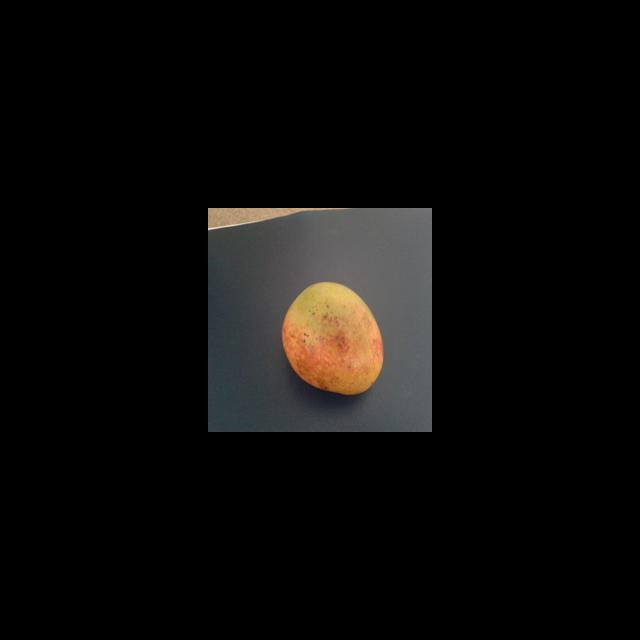Mango: (281, 280, 384, 395)
